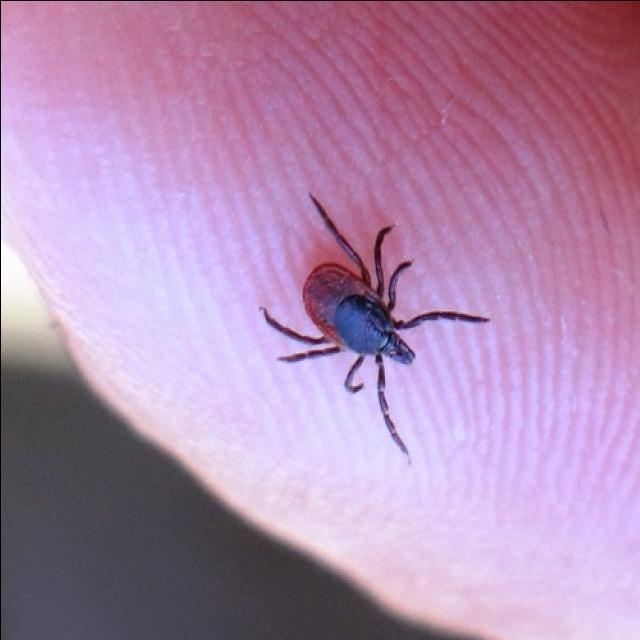Ixodes Ricinus-F: (261, 192, 489, 455)
